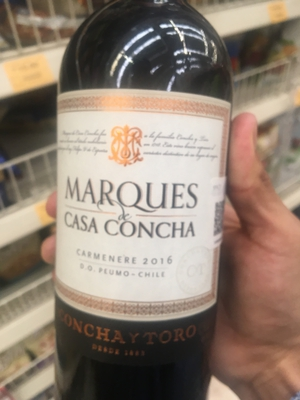marques de casa concha carmenere: (51, 4, 230, 400)
